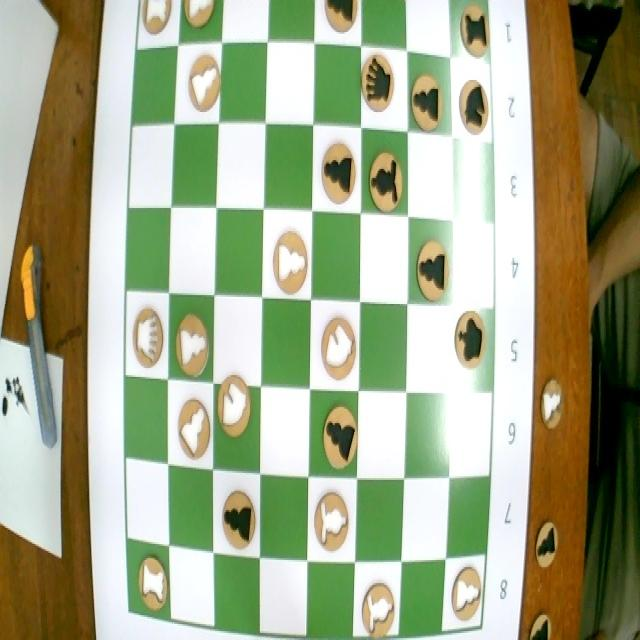chess-pieces: (311, 396, 361, 474), (124, 292, 168, 373), (316, 306, 358, 389), (355, 565, 401, 640), (309, 485, 355, 560), (215, 476, 259, 554), (172, 305, 215, 380), (125, 543, 169, 616), (407, 61, 448, 135), (365, 143, 406, 216), (216, 372, 256, 444), (318, 138, 359, 208), (413, 228, 452, 299), (454, 71, 493, 141), (268, 228, 308, 295), (361, 51, 398, 121), (175, 395, 211, 464), (447, 557, 482, 624), (451, 308, 487, 373), (185, 51, 218, 118), (454, 0, 491, 59), (320, 0, 364, 45), (138, 0, 178, 40), (179, 0, 217, 37)
